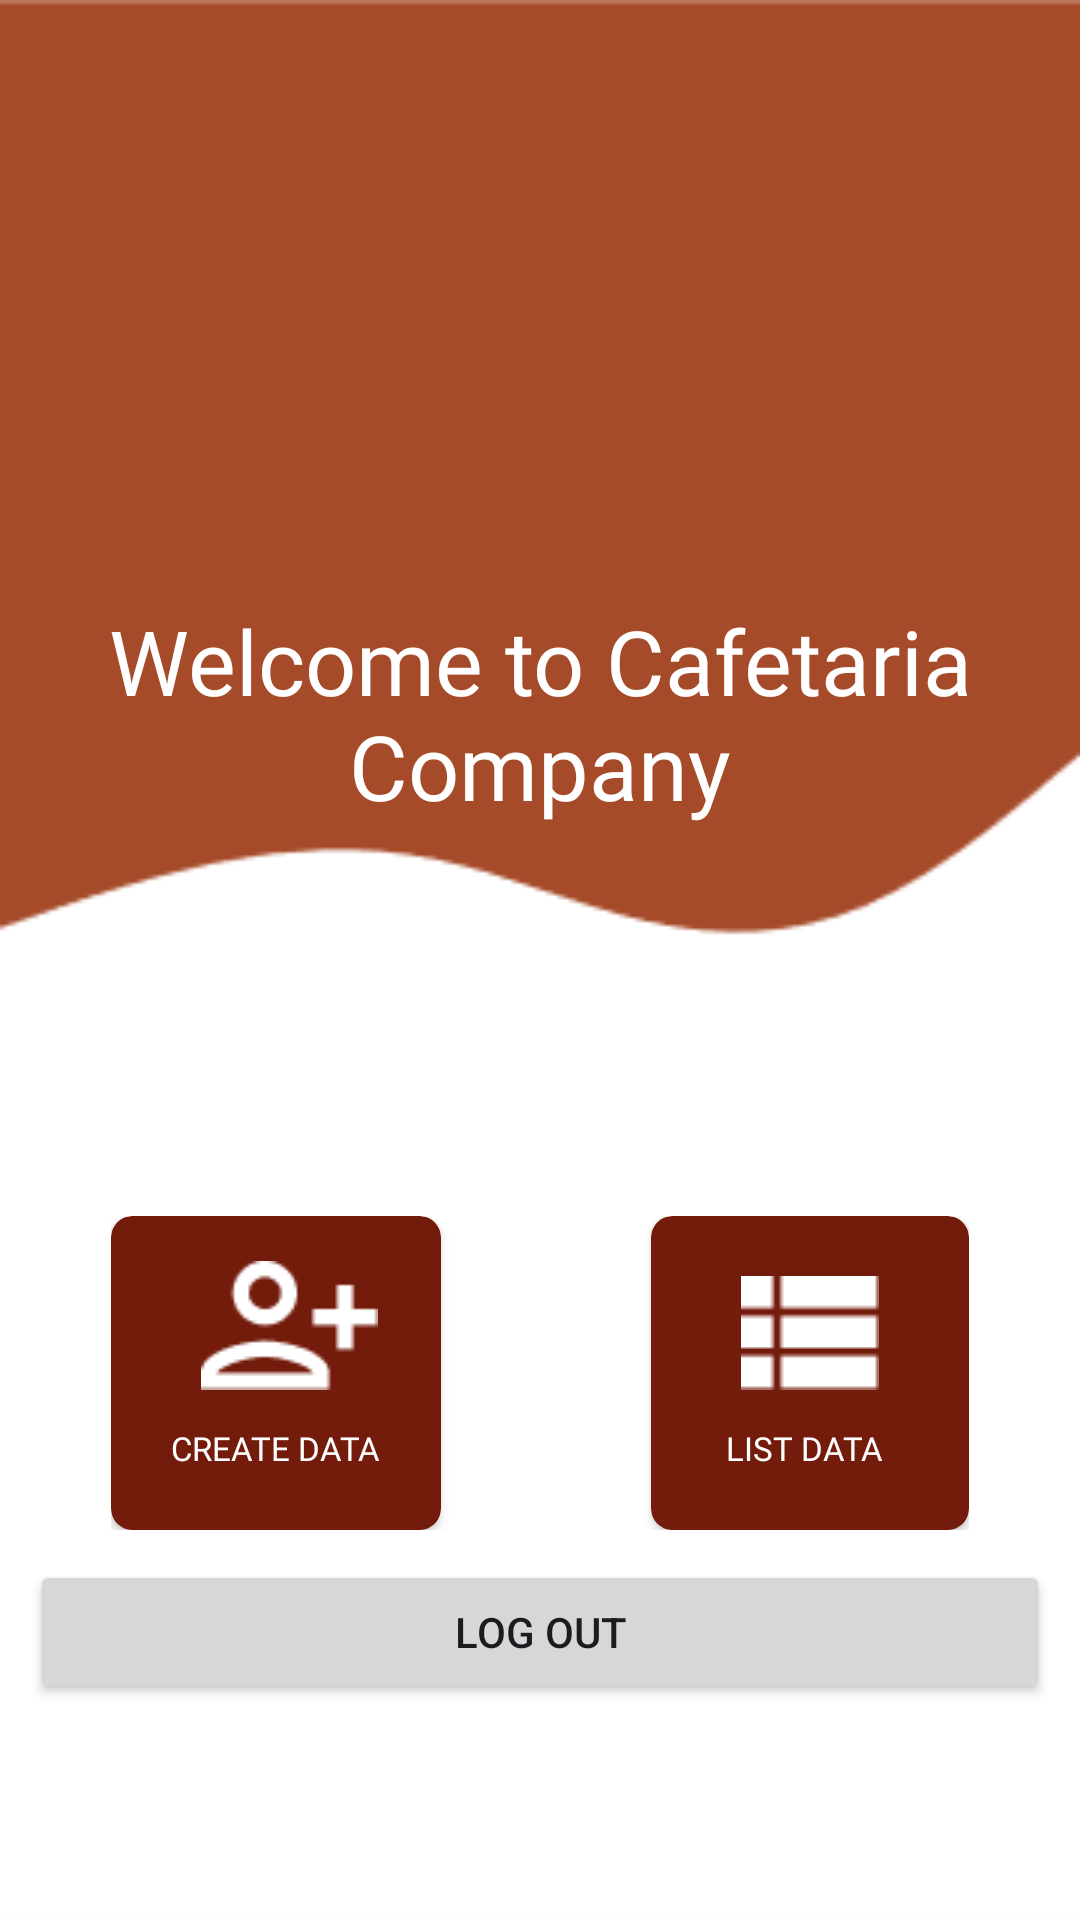

Where icons sit on this 1080*1920 app screen, as (x1=x1, y1=y1, x2=x2, y2=y2):
add: (x1=201, y1=1261, x2=378, y2=1390)
